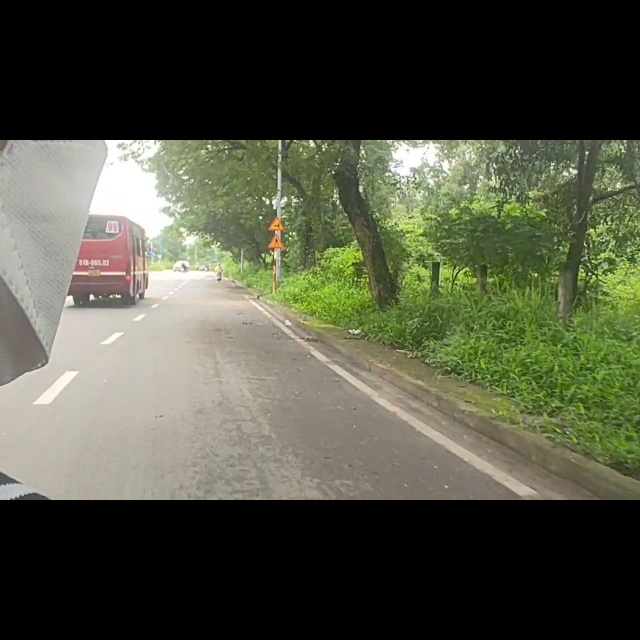bien_nguy_hiem: (267, 165, 287, 194), (270, 134, 287, 162)
